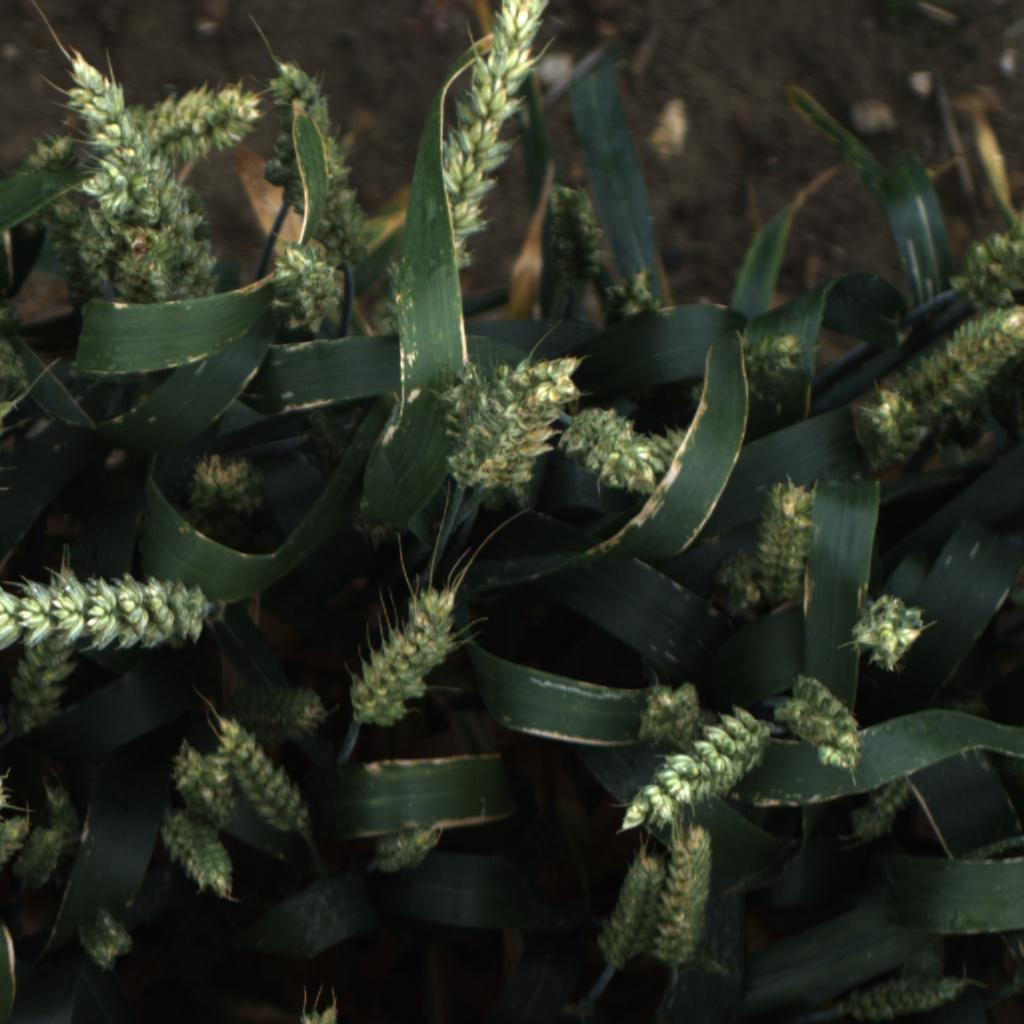0-0: (370, 0, 561, 351), (15, 68, 272, 230), (245, 52, 386, 290), (57, 139, 230, 315), (614, 703, 781, 833), (452, 353, 582, 498), (351, 582, 469, 730), (885, 297, 1024, 419), (0, 576, 210, 651), (8, 557, 92, 732), (202, 714, 314, 838), (550, 399, 665, 500), (56, 47, 159, 158), (768, 670, 865, 774), (590, 849, 665, 982), (836, 955, 979, 1024), (434, 344, 505, 472), (660, 817, 719, 969), (728, 322, 820, 419), (950, 203, 1024, 322), (258, 236, 345, 337), (758, 478, 822, 606), (689, 545, 784, 631), (848, 386, 934, 474), (154, 811, 236, 903), (846, 591, 934, 676), (535, 178, 603, 286), (225, 681, 334, 746), (627, 673, 712, 748), (180, 448, 263, 523), (168, 735, 233, 821), (598, 258, 672, 332), (84, 427, 153, 504), (0, 295, 46, 404), (626, 416, 701, 482), (842, 782, 919, 845), (69, 907, 138, 974), (372, 817, 442, 881), (293, 408, 357, 472), (14, 823, 69, 890), (39, 778, 88, 849), (0, 809, 34, 872)
